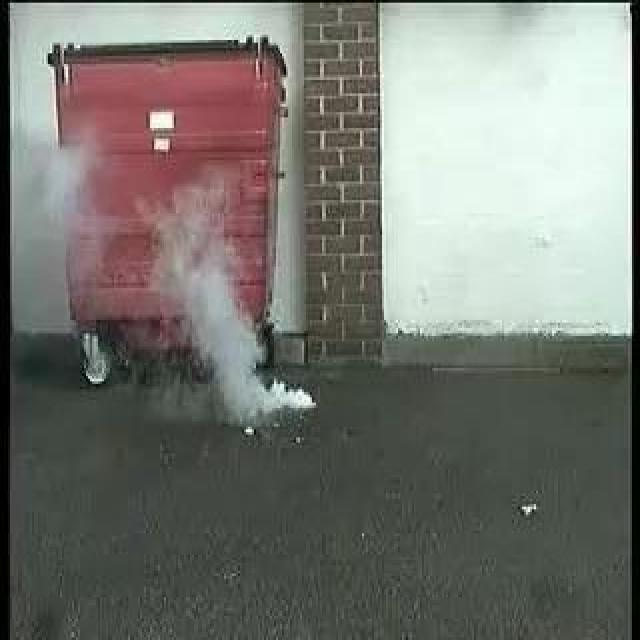Smoke: (146, 192, 308, 413)
